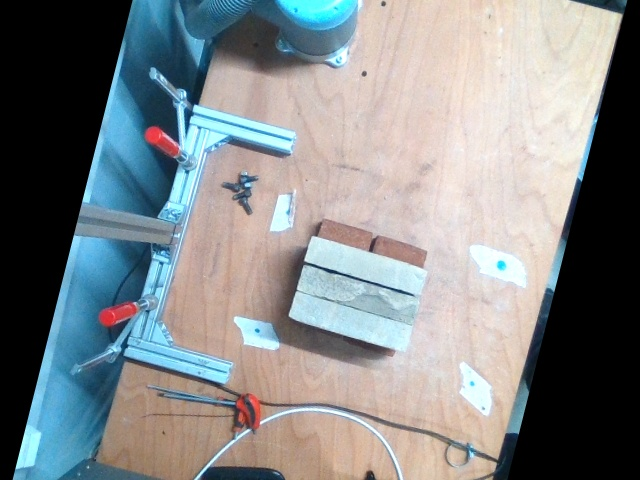brick-side: (289, 290, 414, 354), (297, 263, 421, 327), (305, 234, 429, 298)
